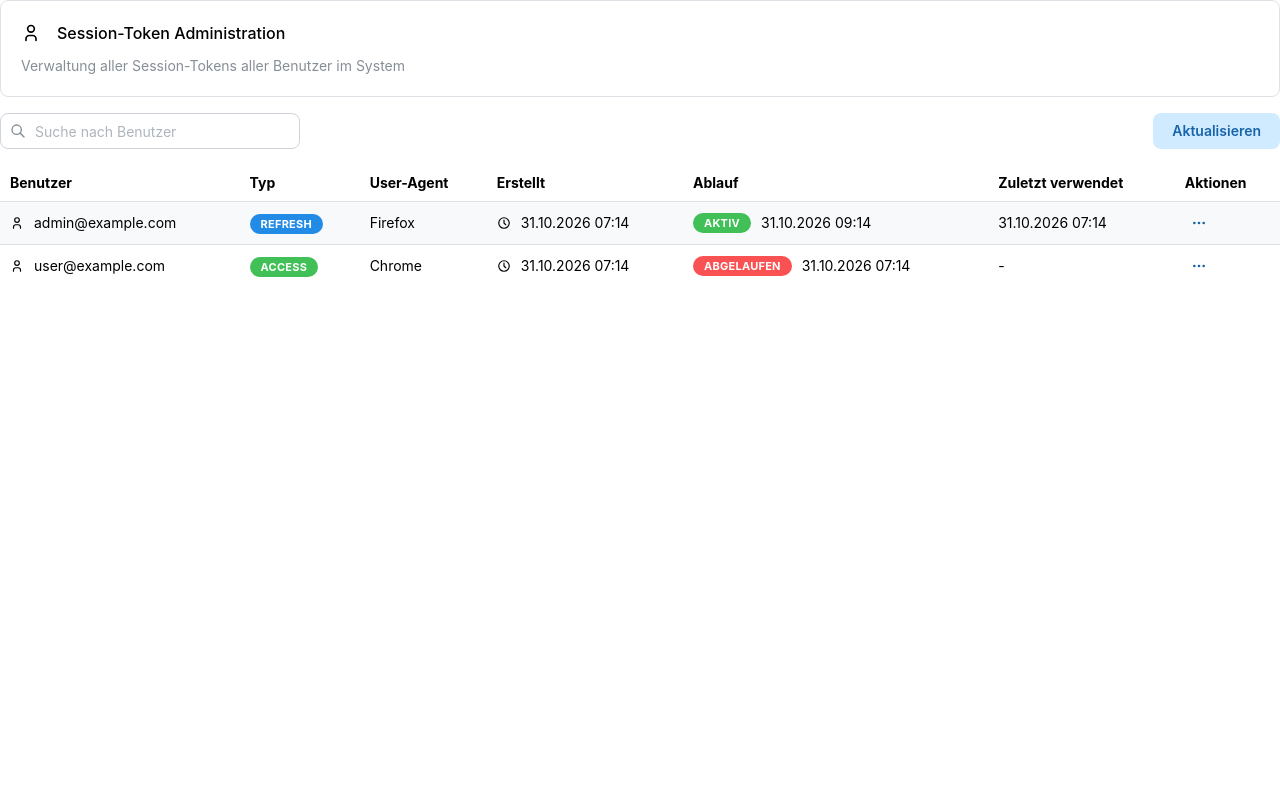
SessionTokenAdminList › zeigt die Backend-Meldung, wenn das Löschen fehlschlägt
This screenshot has width=1280, height=800.
Expected: the text "admin@example.com" is shown, 34,213 -> 176,233
Click the button without text in the row of "admin@example.com": (1199, 223) 1185,209 -> 1213,237
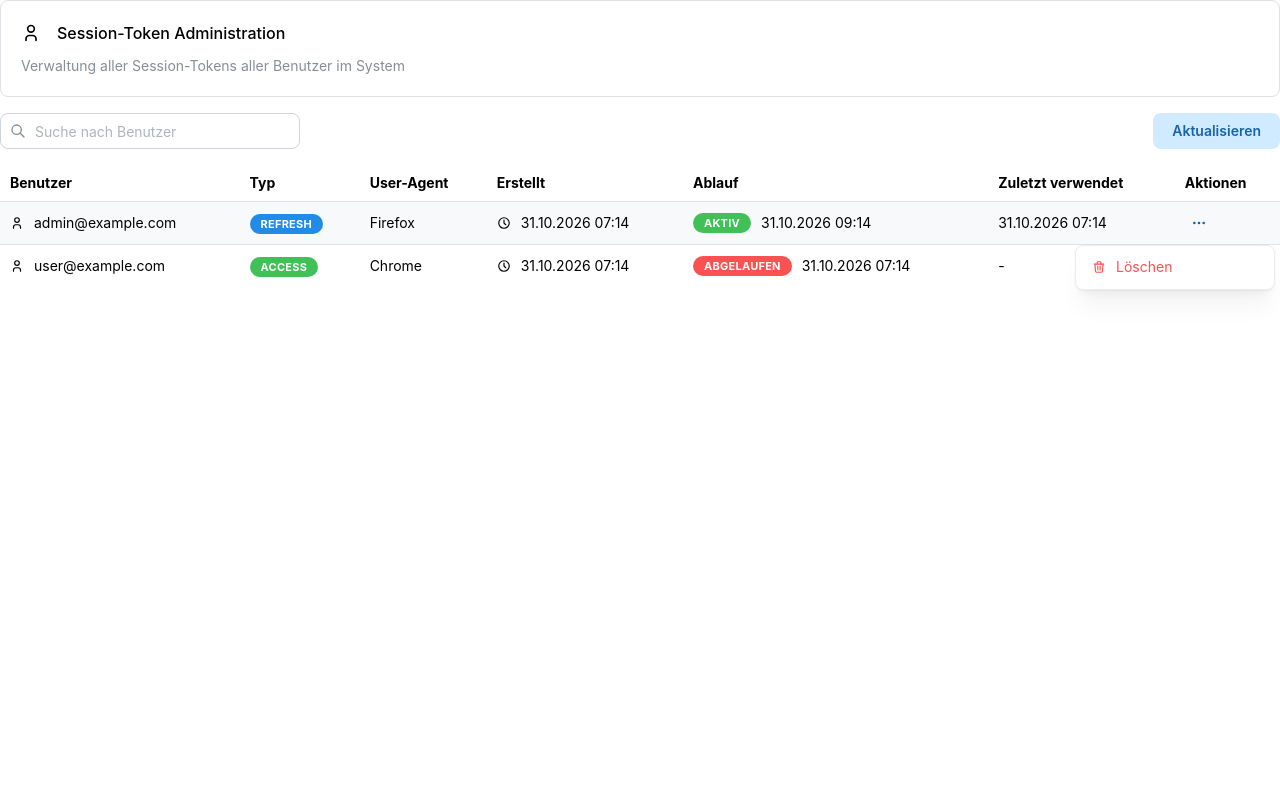
Click the menu item "Löschen": (1175, 267) 1080,250 -> 1270,285
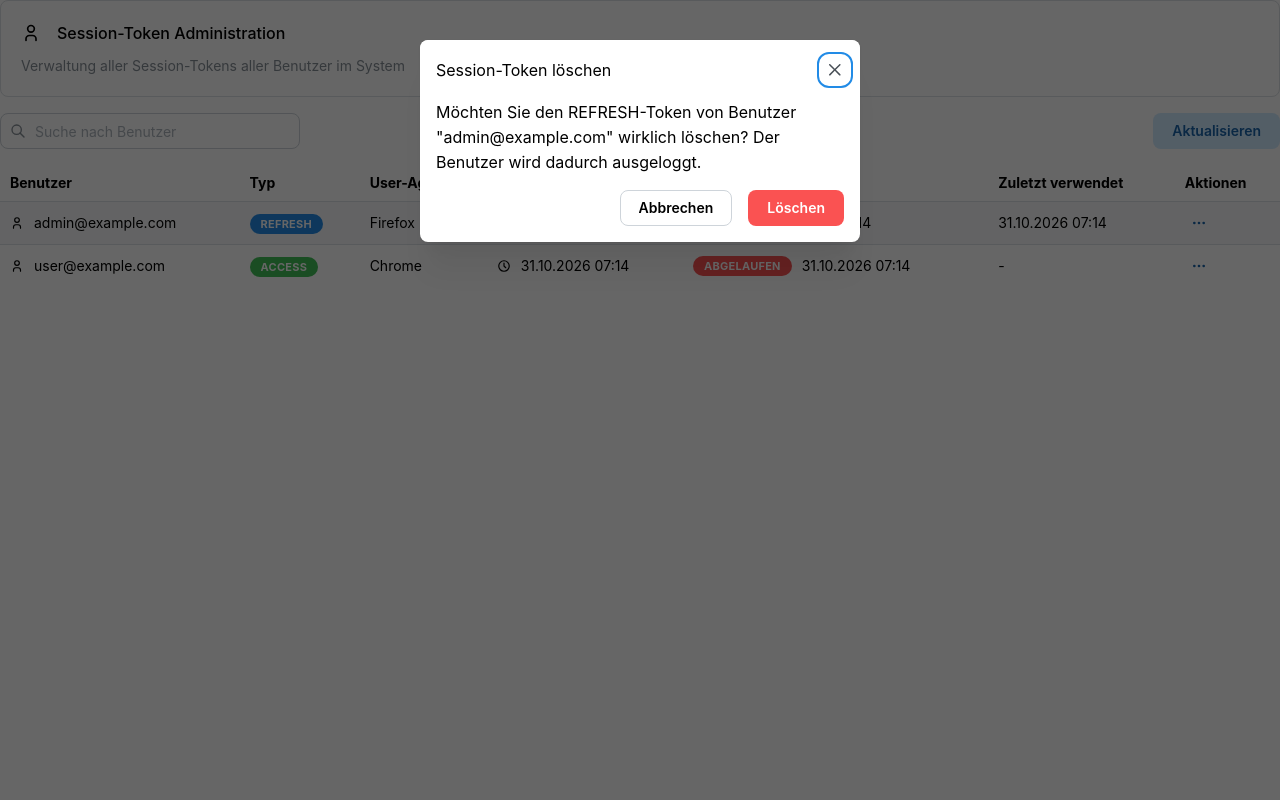
Click the button "Löschen": (796, 208) 748,190 -> 844,226
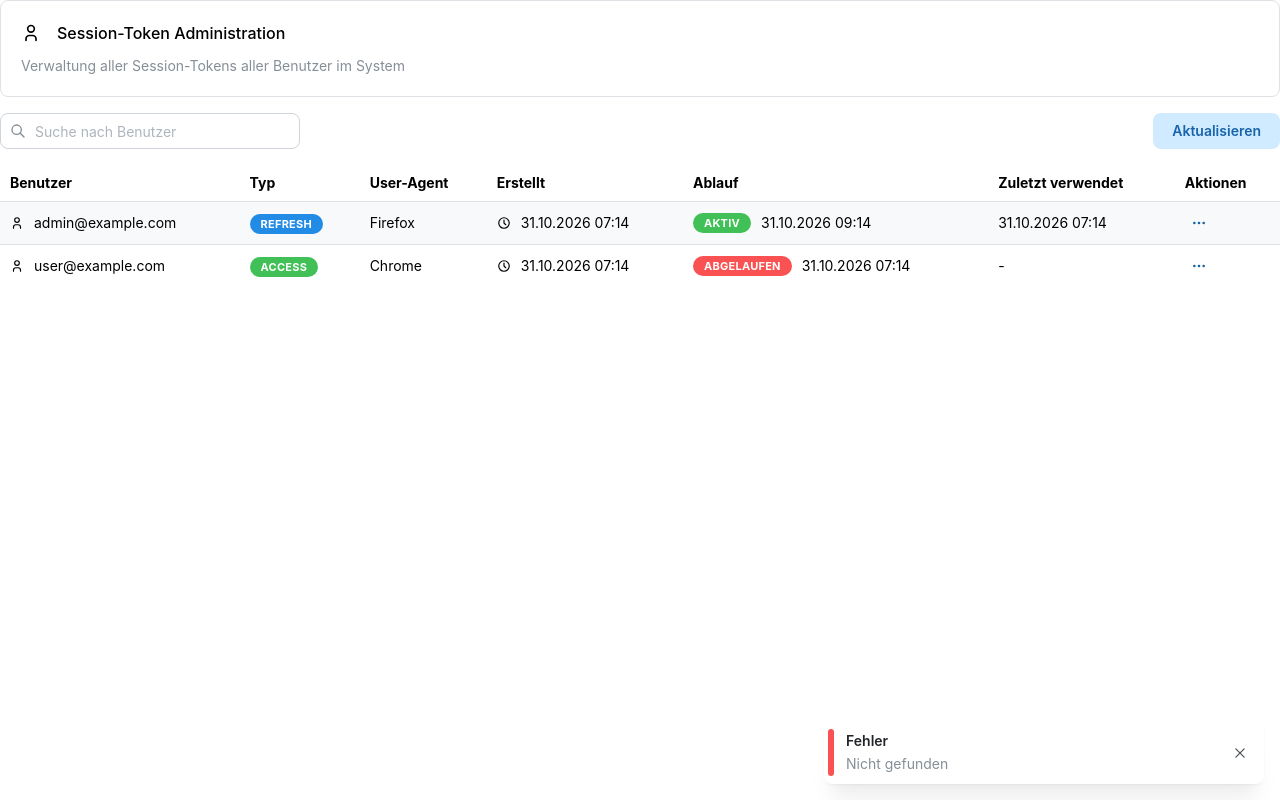
Now the text "Nicht gefunden" is shown, box 846,755 -> 948,772
